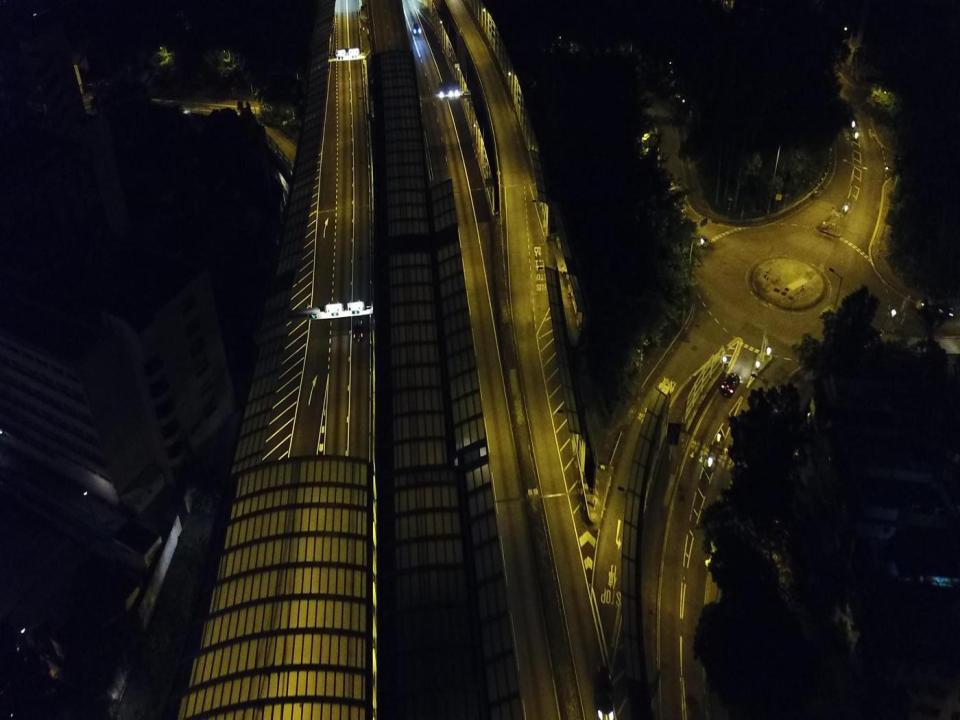car: (592, 665, 614, 719), (915, 293, 955, 322), (720, 372, 741, 398), (352, 316, 363, 343), (411, 21, 421, 36)
